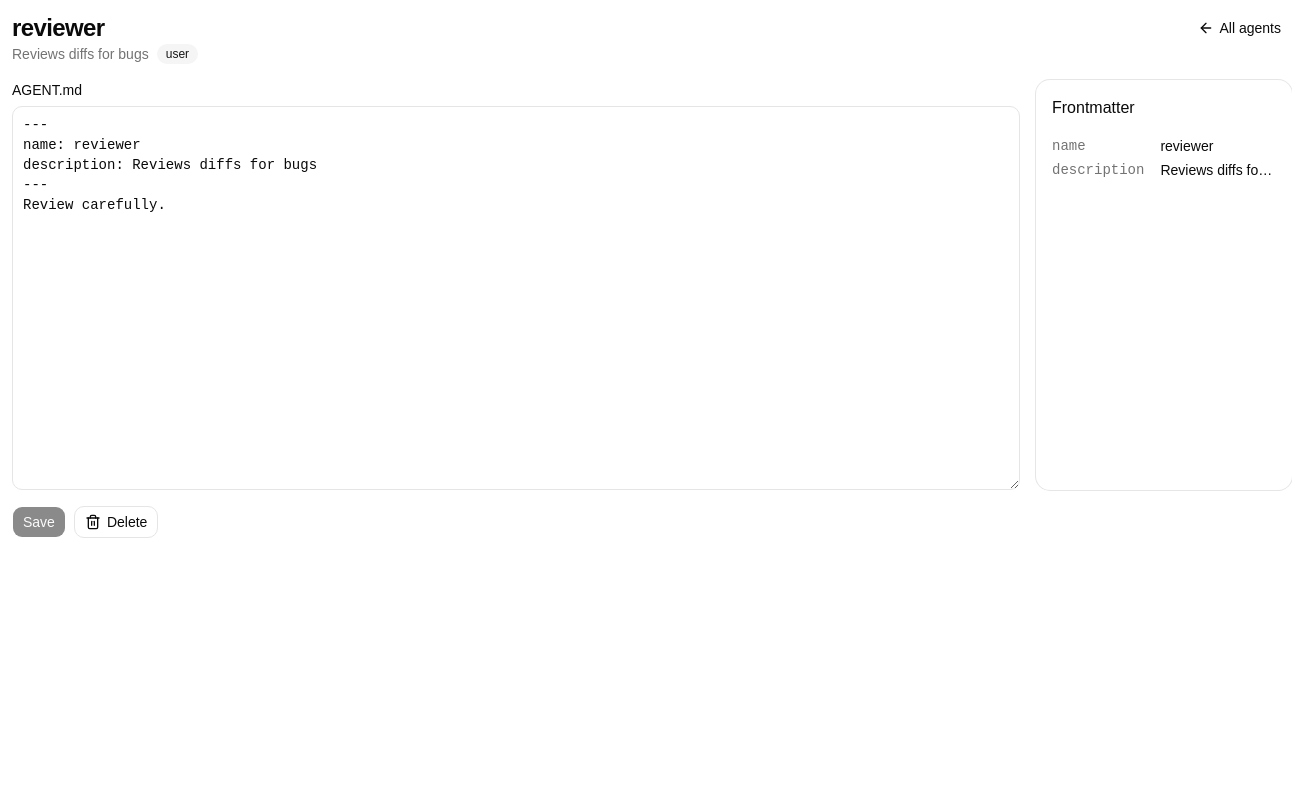
Test: AgentEditor › shows 422 validation feedback from the server
This screenshot has width=1304, height=812.
Type "x" into the text box labelled "AGENT.md" at (516, 298), box [12,106,1020,490]
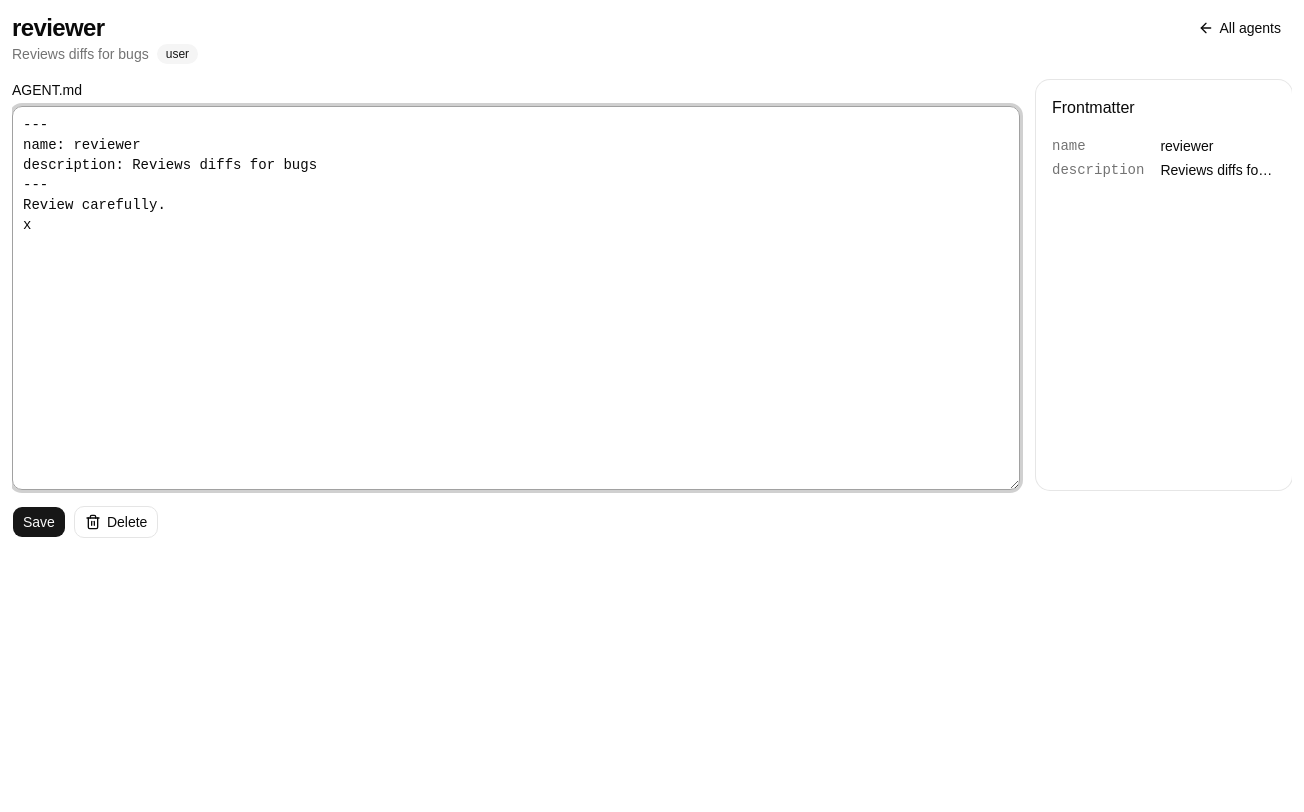
Click the button "Save" at (39, 522), box [12,506,66,538]
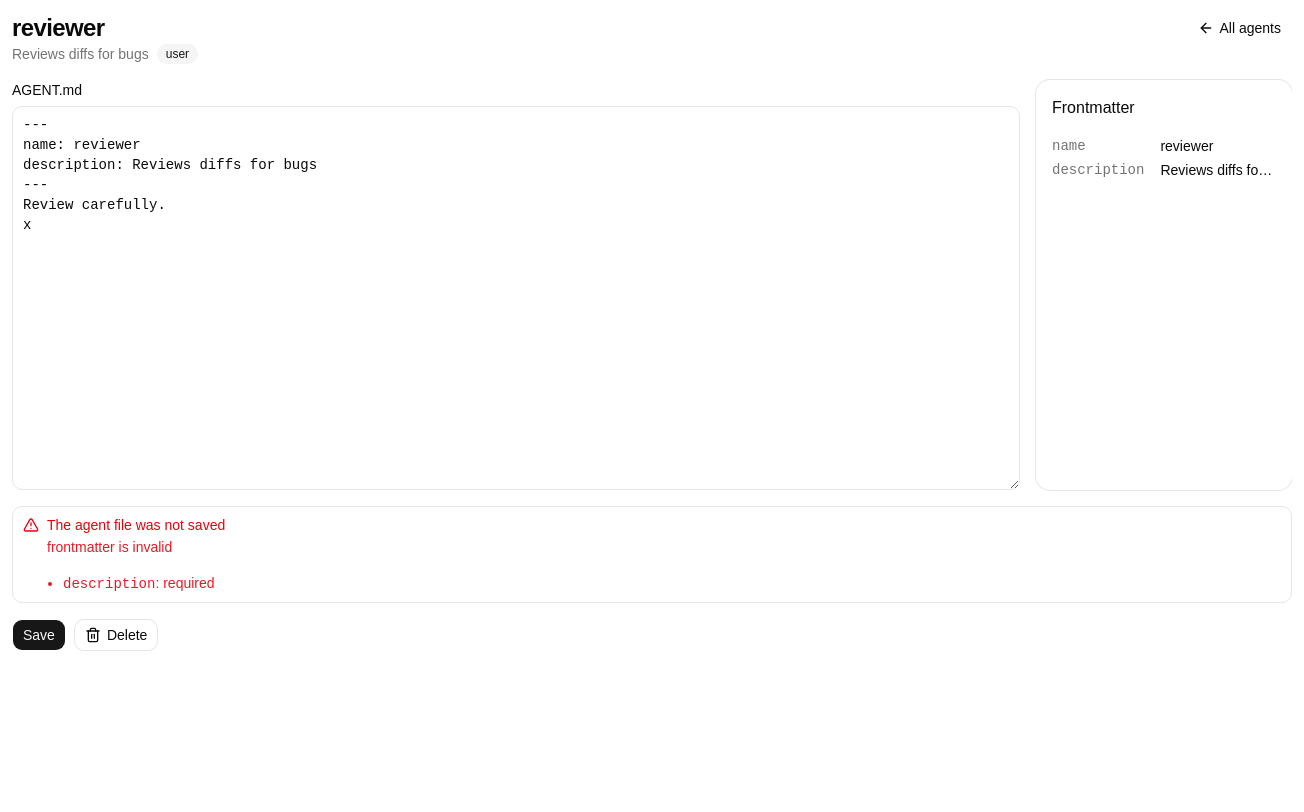
Expected: the text "The agent file was not saved" shows "frontmatter is invalid", [47,539,172,555]
Expected: the text "The agent file was not saved" shows "description: required", [12,506,1292,603]
